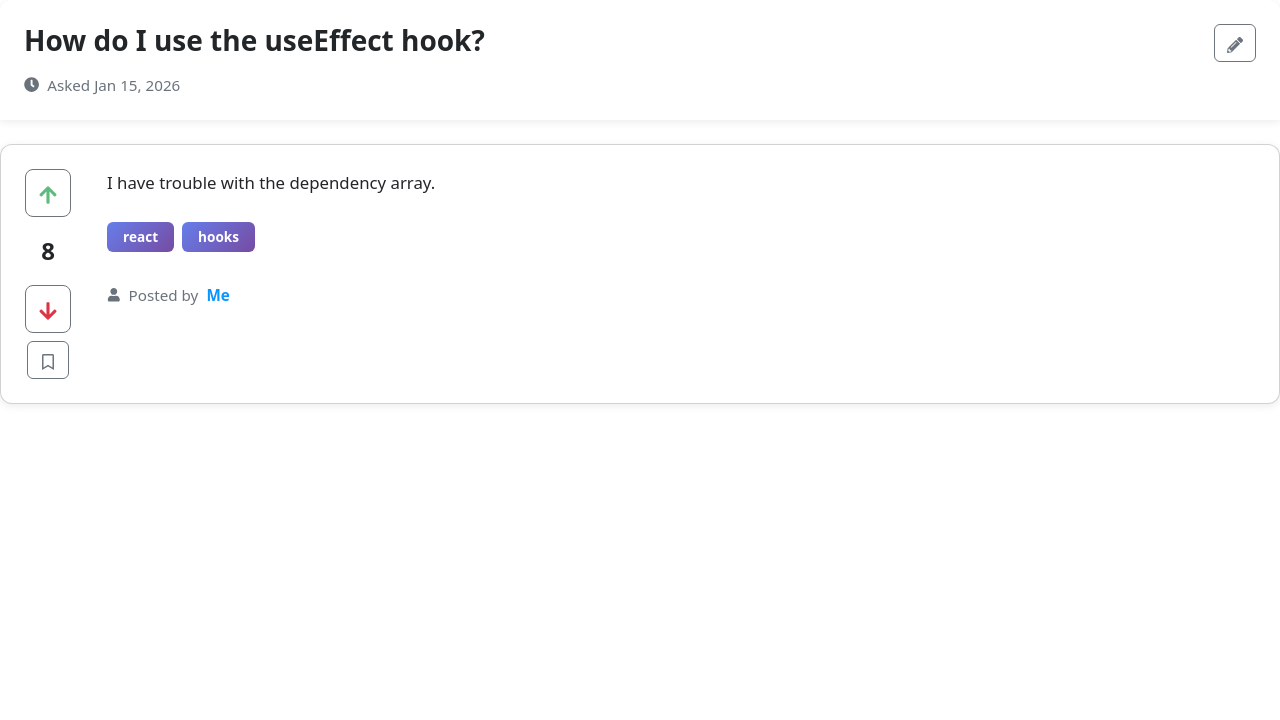
Scenario: QuestionContent Component › Edit affordance › disables Save when the title is emptied
The width and height of the screenshot is (1280, 720).
Click the button named "edit" at (1235,43), box 1214,24 -> 1256,62
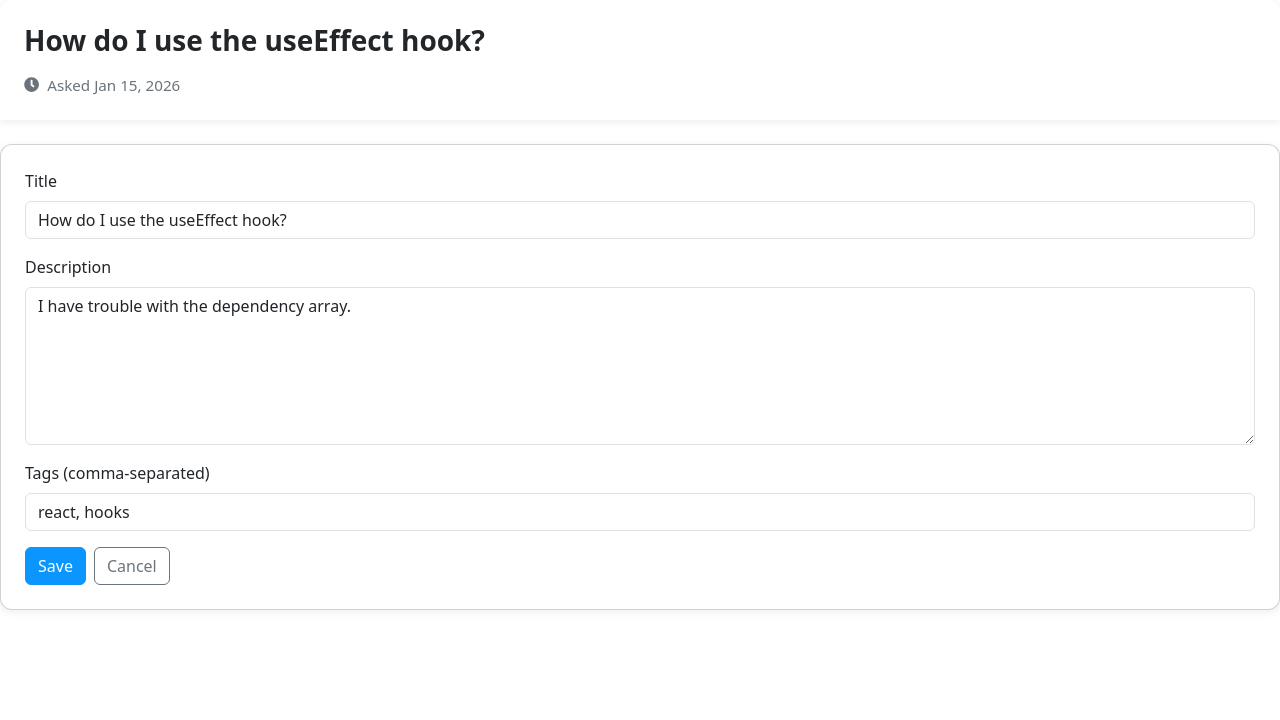
Clear the field labelled "Title" at (640,220), box 25,201 -> 1255,239
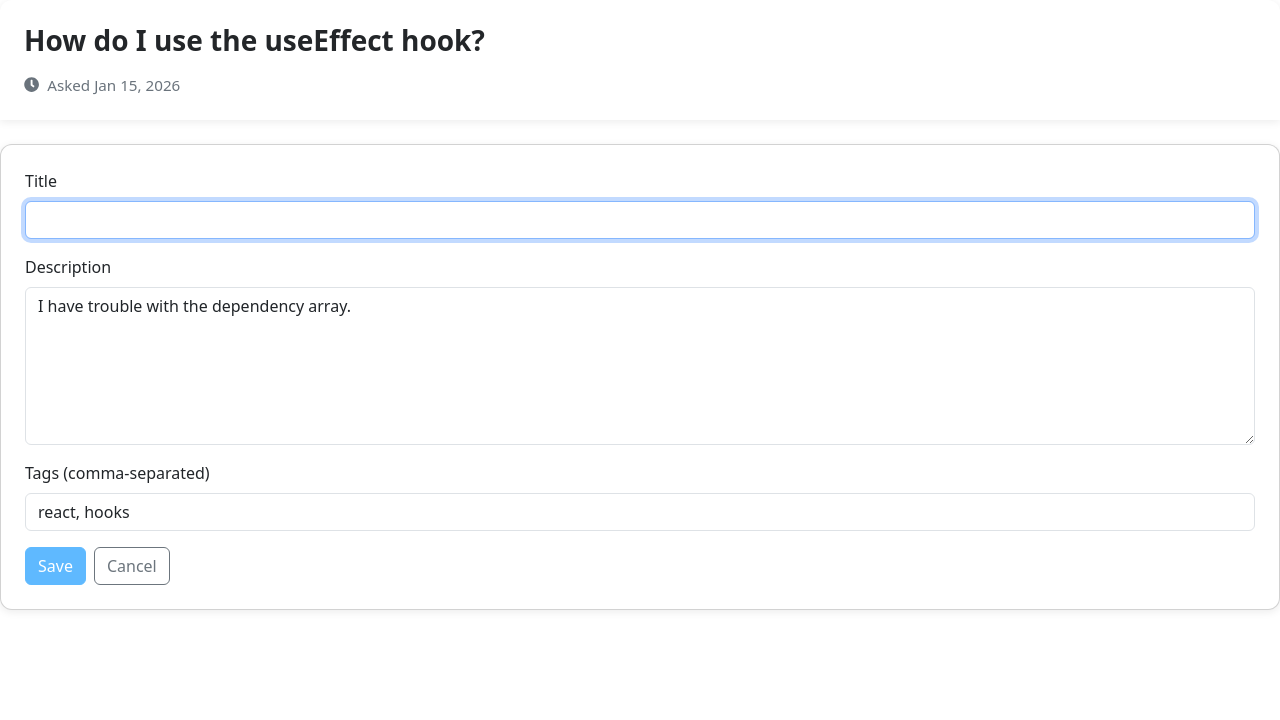
Check: the button "Save" is disabled, box 25,547 -> 86,585
